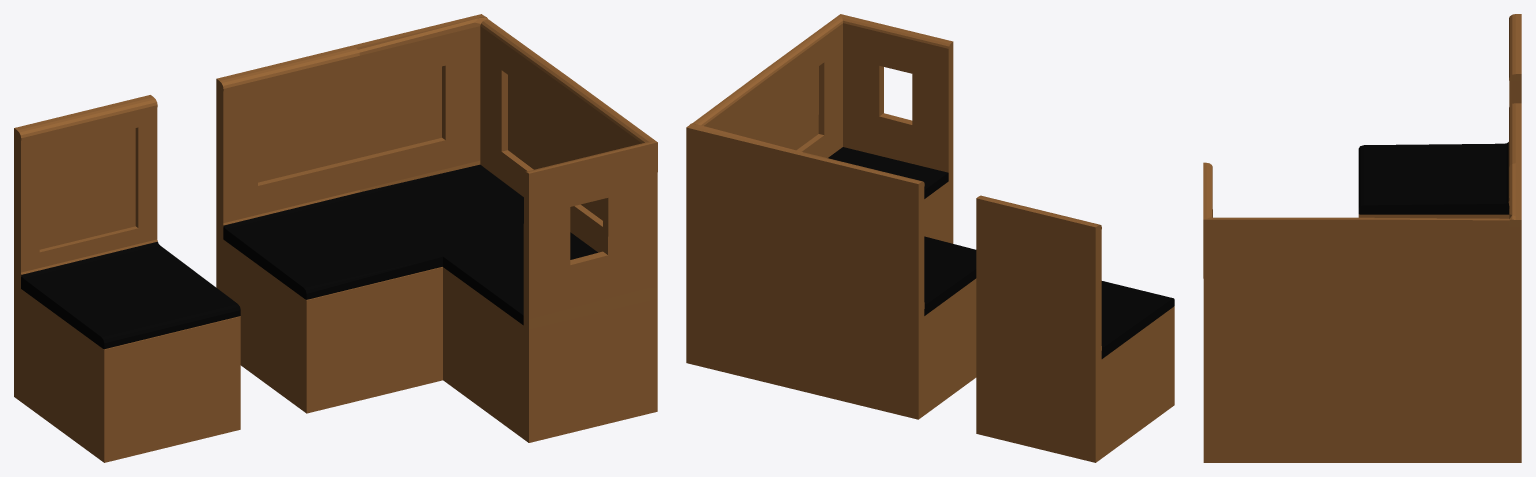
Rendered from Stairs Seat Pack.fbx.
3 views of the same model, side by side, from view 1: azimuth 30°, elevation 25°; view 2: azimuth 150°, elevation 25°; view 3: azimuth 270°, elevation 25° (orthographic). The views are drawn at different scales.
Parts seen in each view (by area): view 1: Stairs seat edge, Stairs seat; view 2: Stairs seat edge, Stairs seat; view 3: Stairs seat edge, Stairs seat.
Boxes of the visible parts, x1,y1,x2,y2 form: Stairs seat edge: (216,14,657,442); Stairs seat: (14,95,240,462); Stairs seat edge: (686,14,976,419); Stairs seat: (976,195,1174,462); Stairs seat edge: (1203,103,1521,462); Stairs seat: (1358,14,1521,218).
Size of the model in its own units: 2.77 by 1.53 by 1.81.
